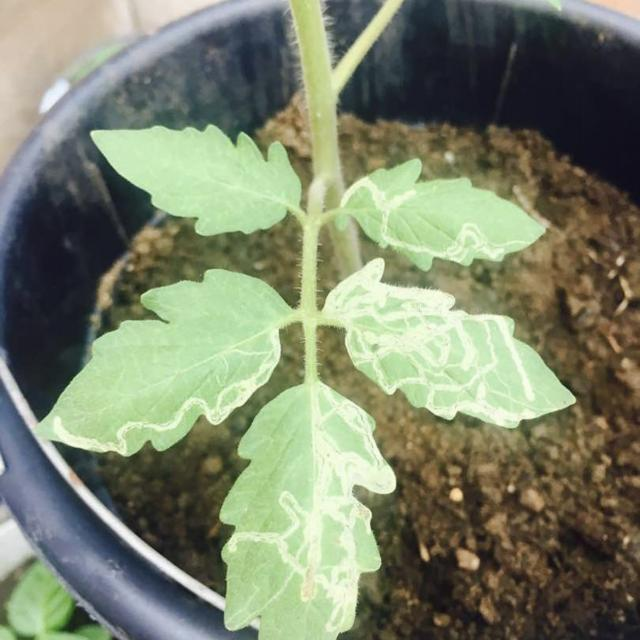Healthy: (86, 121, 306, 235)
